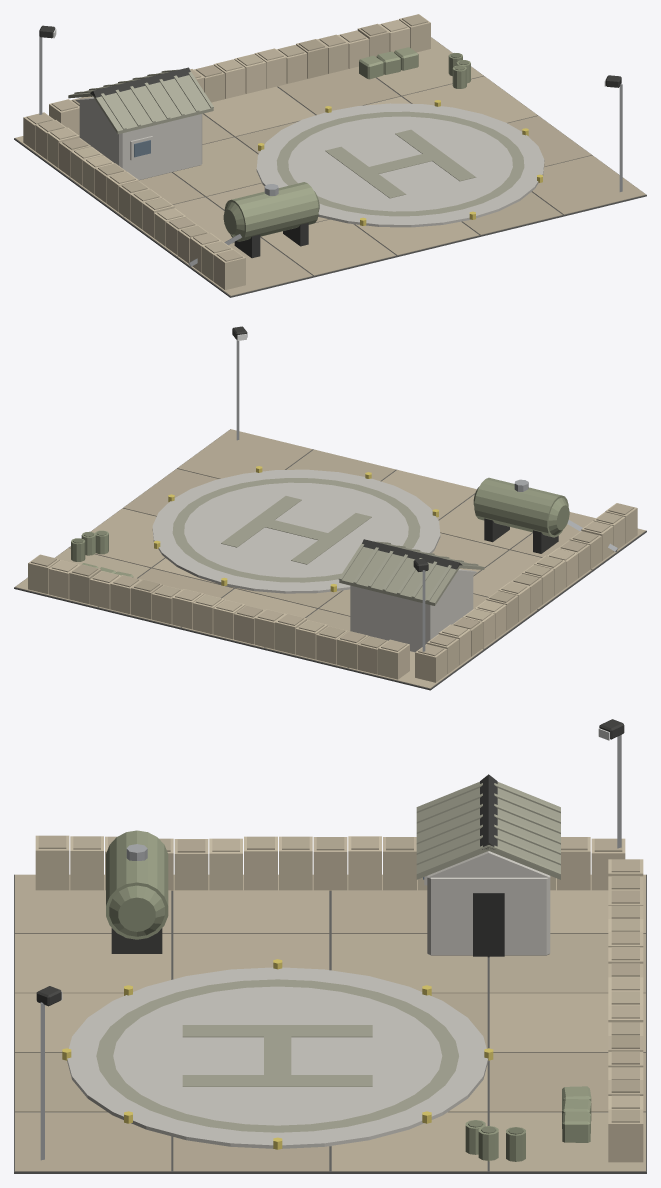
Rendered from b_heligun.glb.
3 renders of one model, top to bottom at view 1: azimuth 30°, elevation 25°; view 2: azimuth 150°, elevation 25°; view 3: azimuth 270°, elevation 25°, orthographic. The views are drawn at different scales.
Parts seen in each view (by area): view 1: hull; view 2: hull; view 3: hull.
Part boxes in pixels (<box>): hull: <box>14,14,646,297</box>; hull: <box>14,326,646,690</box>; hull: <box>14,719,646,1173</box>.
Bounding box in the file's own units: 20.28 × 5.28 × 18.
